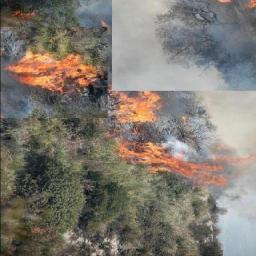Heavy smoke: (115, 1, 245, 89)
Low smoke: (4, 95, 53, 125), (74, 2, 112, 28)
Medium fire: (115, 131, 252, 187), (1, 47, 106, 92), (111, 92, 166, 124)
